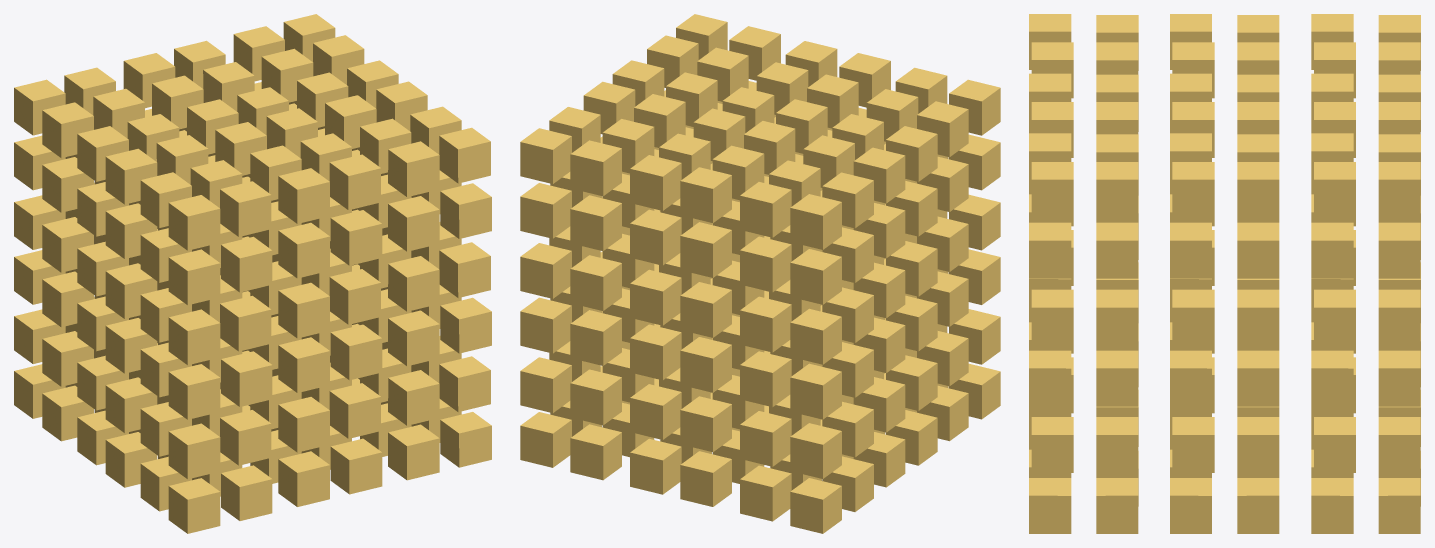
Rendered from Level1-2_Small_Cells.fbx.
3 renders of one model, left to right at view 1: azimuth 30°, elevation 25°; view 2: azimuth 150°, elevation 25°; view 3: azimuth 270°, elevation 25°, orthographic. The views are drawn at different scales.
Visible parts, largest first — view 1: Cube_cell.155, Cube_cell.011, Cube_cell.078, Cube_cell.083, Cube_cell.150, Cube_cell.151, Cube_cell.006, Cube_cell.007, Cube_cell.079, Cube_cell.018, Cube_cell.014, Cube_cell.023 (+95 smaller); view 2: Cube_cell.052, Cube_cell.060, Cube_cell.061, Cube_cell.068, Cube_cell.069, Cube_cell.124, Cube_cell.132, Cube_cell.140, Cube_cell.204, Cube_cell.212, Cube_cell.053, Cube_cell.125 (+95 smaller); view 3: Cube_cell.114, Cube_cell.139, Cube_cell.211, Cube_cell.088, Cube_cell.089, Cube_cell.090, Cube_cell.091, Cube_cell.112, Cube_cell.113, Cube_cell.136, Cube_cell.137, Cube_cell.161 (+66 smaller).
Part boxes in pixels (x1,y1,x2,y2): Cube_cell.155: (330, 210, 382, 265); Cube_cell.011: (330, 438, 382, 494); Cube_cell.078: (168, 309, 220, 365); Cube_cell.083: (330, 324, 382, 380); Cube_cell.150: (168, 195, 220, 250); Cube_cell.151: (168, 249, 220, 305); Cube_cell.006: (168, 423, 220, 479); Cube_cell.007: (168, 478, 220, 533); Cube_cell.079: (168, 364, 220, 419); Cube_cell.018: (439, 356, 490, 412); Cube_cell.014: (278, 397, 329, 452); Cube_cell.023: (388, 424, 439, 480); Cube_cell.052: (790, 423, 841, 478); Cube_cell.060: (680, 396, 731, 451); Cube_cell.061: (680, 451, 731, 506); Cube_cell.068: (570, 369, 621, 425); Cube_cell.069: (570, 424, 621, 480); Cube_cell.124: (790, 308, 841, 364); Cube_cell.132: (680, 282, 731, 337); Cube_cell.140: (570, 255, 621, 310); Cube_cell.204: (680, 167, 731, 222); Cube_cell.212: (570, 140, 621, 196); Cube_cell.053: (790, 478, 841, 533); Cube_cell.125: (790, 363, 841, 419); Cube_cell.114: (1172, 289, 1214, 345); Cube_cell.139: (1311, 350, 1353, 406); Cube_cell.211: (1311, 222, 1353, 278); Cube_cell.088: (1096, 289, 1138, 345); Cube_cell.089: (1096, 350, 1138, 406); Cube_cell.090: (1031, 289, 1073, 345); Cube_cell.091: (1029, 350, 1071, 406); Cube_cell.112: (1237, 289, 1279, 345); Cube_cell.113: (1237, 350, 1279, 406); Cube_cell.136: (1378, 289, 1420, 345); Cube_cell.137: (1378, 350, 1420, 406); Cube_cell.161: (1096, 222, 1138, 278).
Size of the model in its own units: 881 by 878 by 880.
